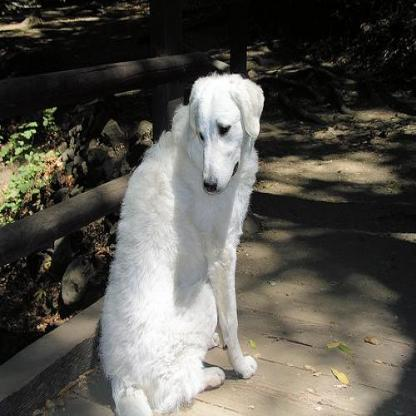kuvasz: (92, 52, 268, 414)
